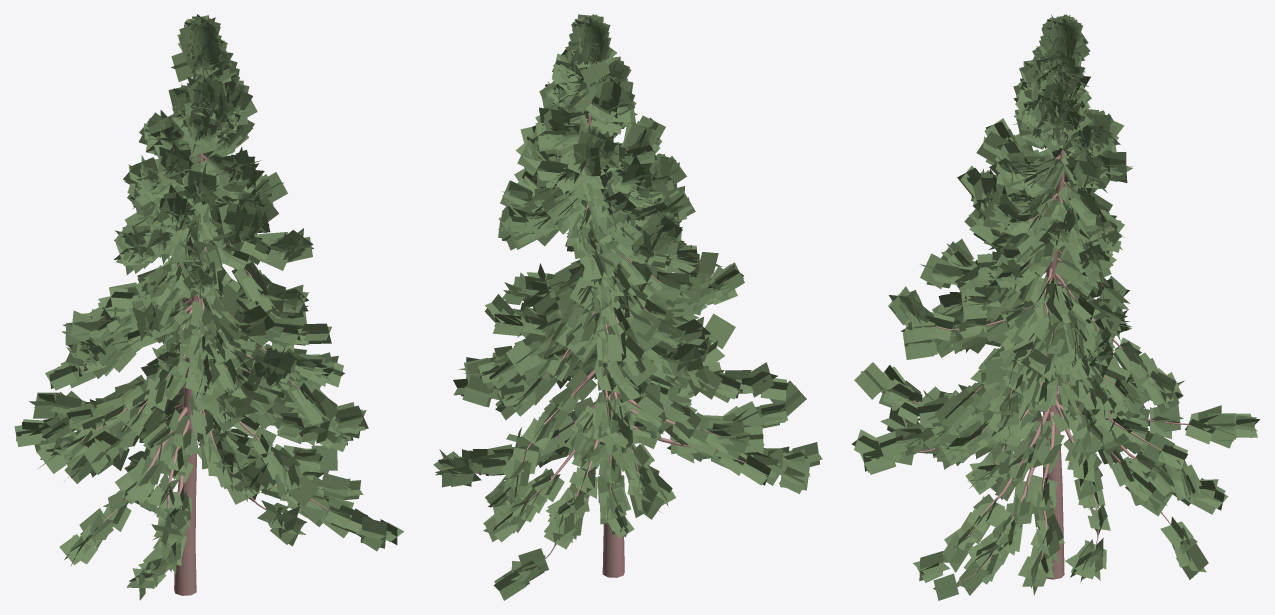
Rendered from redwood_b.glb.
3 renders of one model, left to right at view 1: azimuth 30°, elevation 25°; view 2: azimuth 150°, elevation 25°; view 3: azimuth 270°, elevation 25°, orthographic. The views are drawn at different scales.
Visible parts, largest first — view 1: leaves, branches; view 2: leaves, branches; view 3: leaves, branches.
Part boxes in pixels (bbox=[...]): leaves: bbox=[14, 14, 403, 600]; branches: bbox=[64, 153, 361, 595]; leaves: bbox=[433, 14, 822, 600]; branches: bbox=[474, 85, 783, 577]; leaves: bbox=[851, 14, 1259, 600]; branches: bbox=[881, 148, 1189, 583].
Size of the model in its own units: 41.54 by 68.17 by 44.4.
